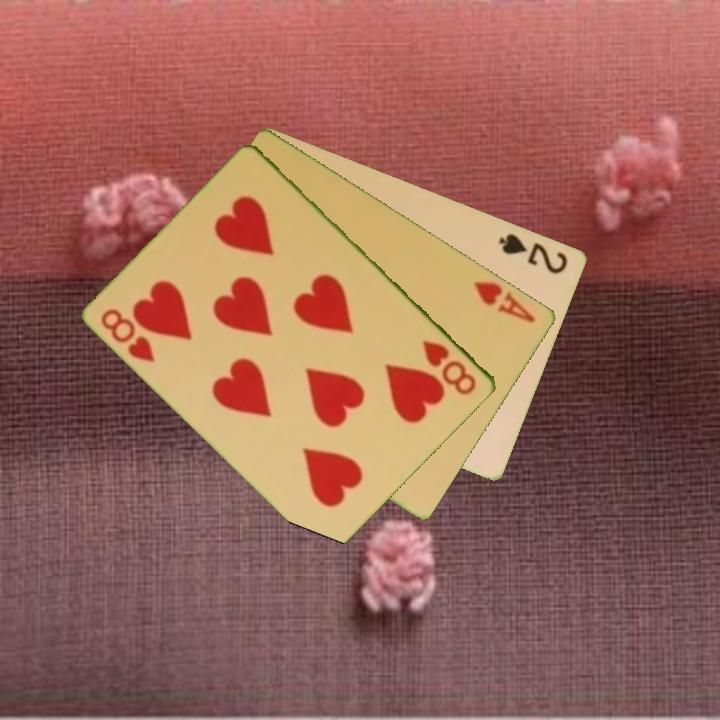2s: (495, 229, 571, 277)
8h: (419, 336, 480, 398), (98, 305, 159, 365)
Ah: (471, 277, 539, 326)
